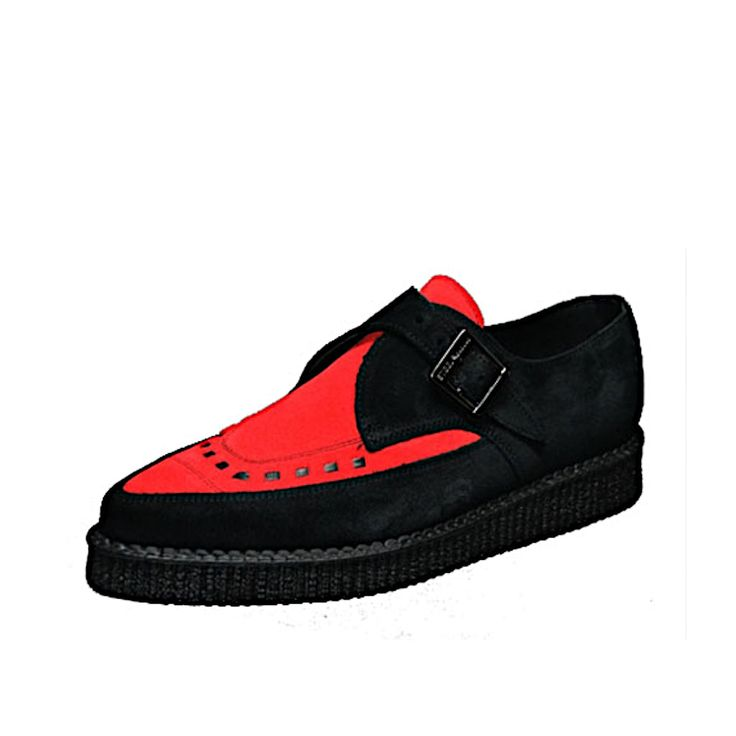gamuza: (92, 273, 644, 551)
